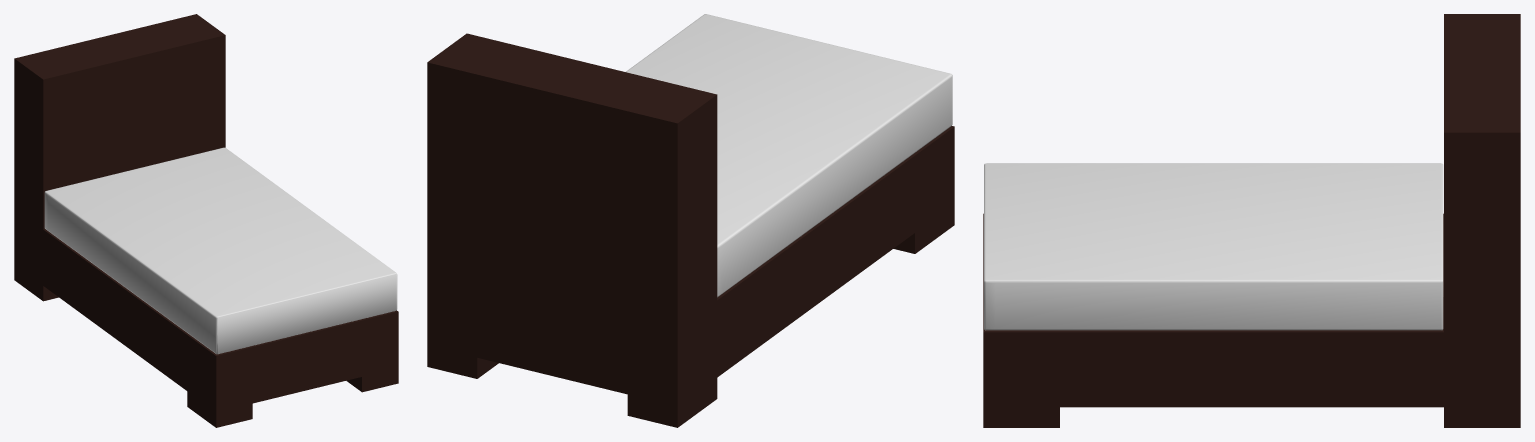
The model's file is bed.fbx.
3 renders of one model, left to right at view 1: azimuth 30°, elevation 25°; view 2: azimuth 150°, elevation 25°; view 3: azimuth 270°, elevation 25°, orthographic. The views are drawn at different scales.
Visible parts, largest first — view 1: bed, Mattress; view 2: bed, Mattress; view 3: Mattress, bed.
Boxes of the visible parts, x1,y1,x2,y2 form: bed: (14, 14, 398, 427); Mattress: (44, 147, 397, 354); bed: (427, 33, 954, 427); Mattress: (626, 14, 952, 297); Mattress: (984, 163, 1443, 330); bed: (983, 14, 1520, 427).
Bounding box in the file's own units: 1.2 × 1.39 × 2.3.
